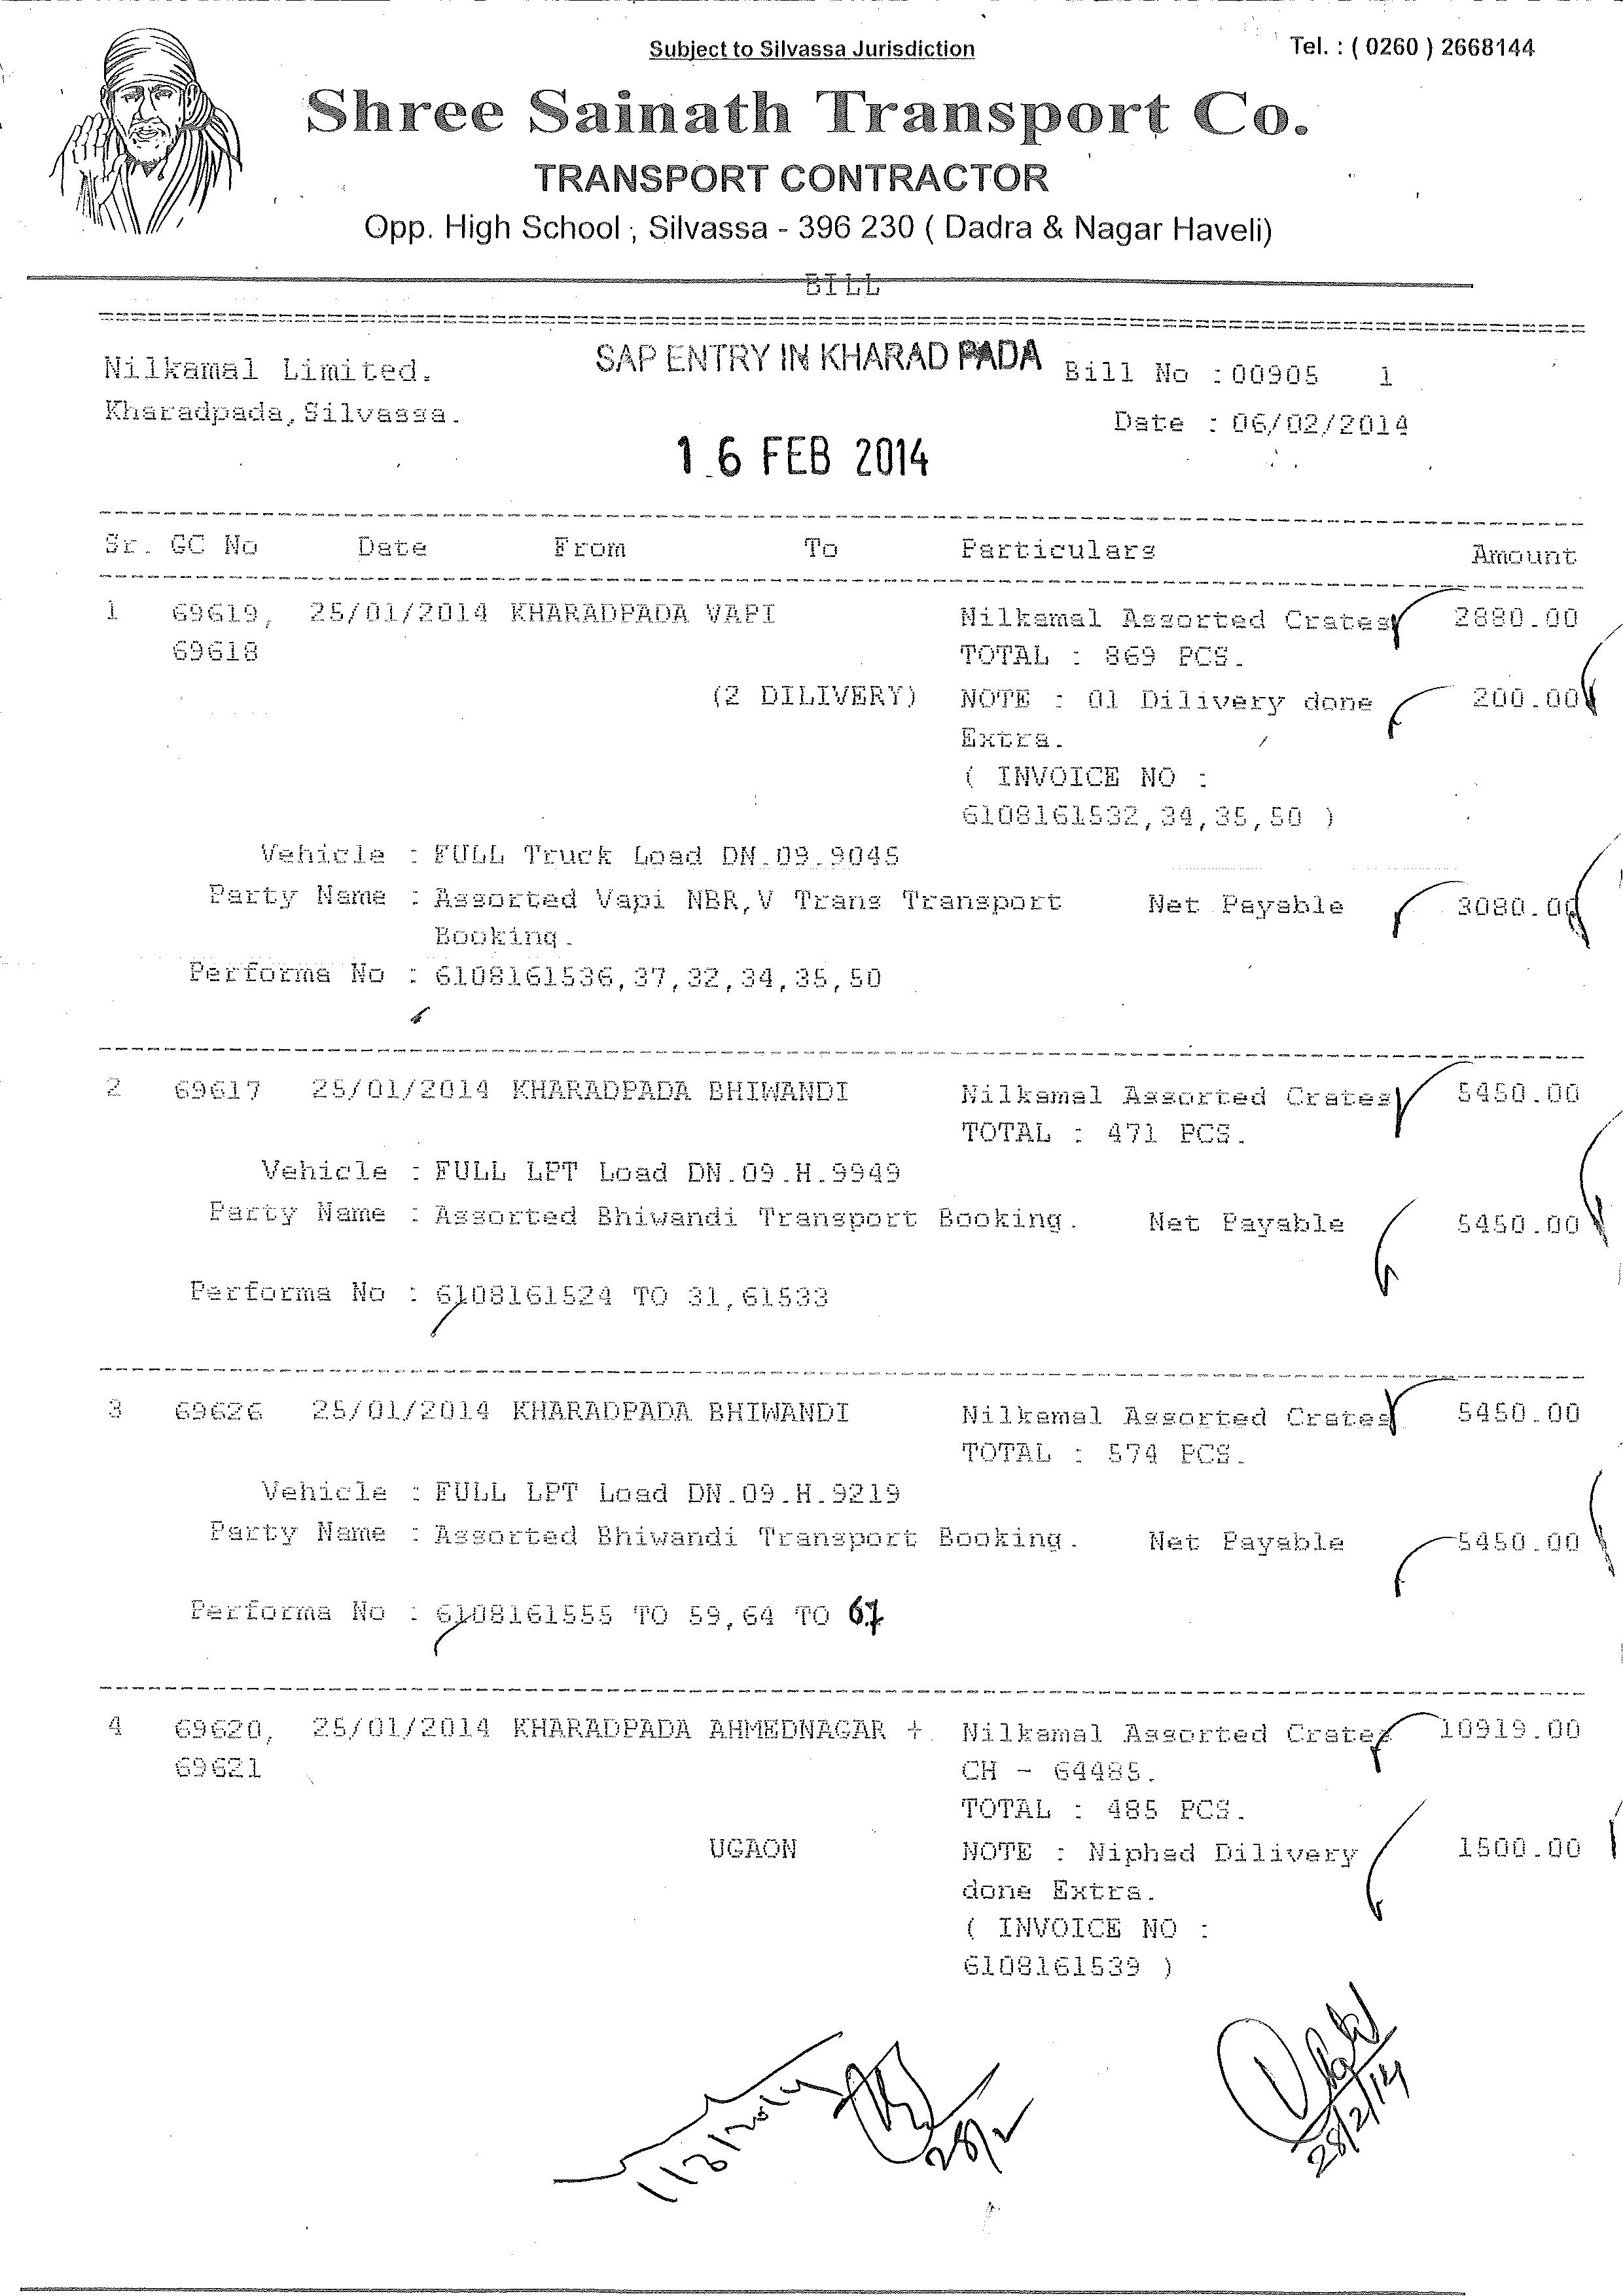B_Paragraph: (351, 207, 1284, 265), (1063, 350, 1421, 451), (104, 348, 472, 434), (594, 327, 1042, 392), (660, 413, 938, 492), (641, 23, 996, 65), (1288, 23, 1540, 65)
B_SubTitle: (527, 149, 1082, 199)
B_Table: (88, 518, 1618, 1983)
B_Title: (302, 77, 1328, 155), (794, 260, 889, 304)
